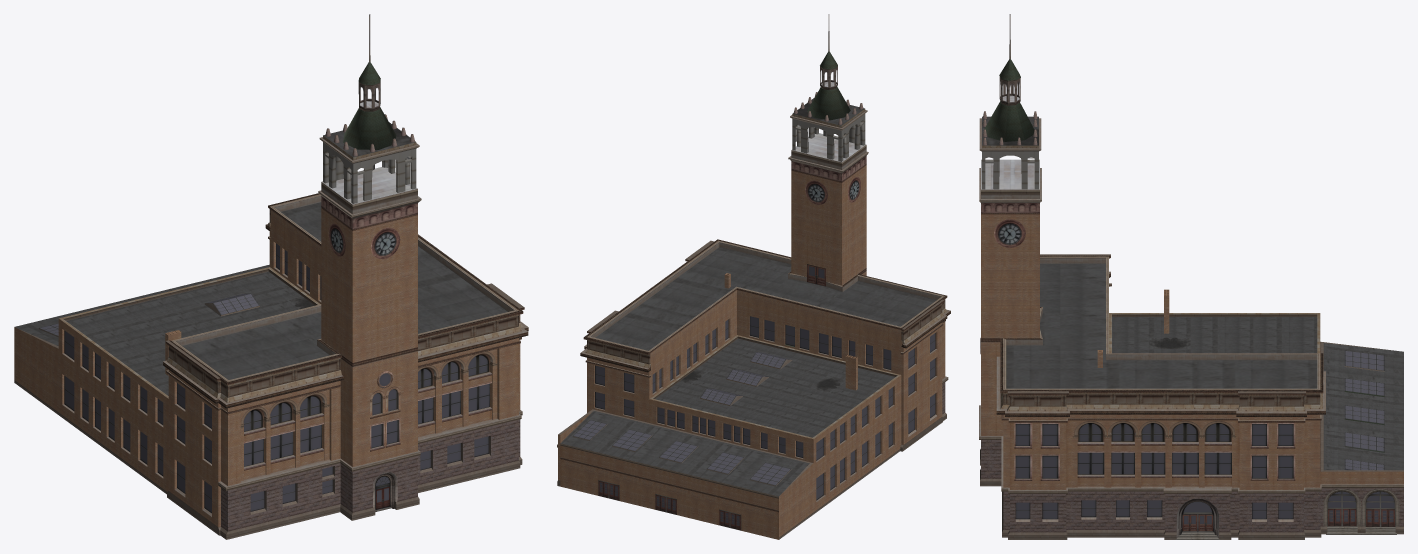
The model's file is milwaukee-road-depot.glb.
The picture shows the model from 3 angles, left to right: view 1: azimuth 30°, elevation 25°; view 2: azimuth 150°, elevation 25°; view 3: azimuth 270°, elevation 25°; orthographic projection. The views are drawn at different scales.
Visible parts, largest first — view 1: Object_3, Object_4; view 2: Object_3, Object_4; view 3: Object_3, Object_4.
Part boxes in pixels (x1,y1,x2,y2): Object_3: [14, 81, 528, 539]; Object_4: [262, 14, 492, 508]; Object_3: [557, 66, 950, 539]; Object_4: [793, 14, 863, 159]; Object_3: [979, 76, 1403, 539]; Object_4: [983, 14, 1218, 538].
Bounding box in the file's own units: 3798 × 5707 × 4816.
1 material, 1 textured.
